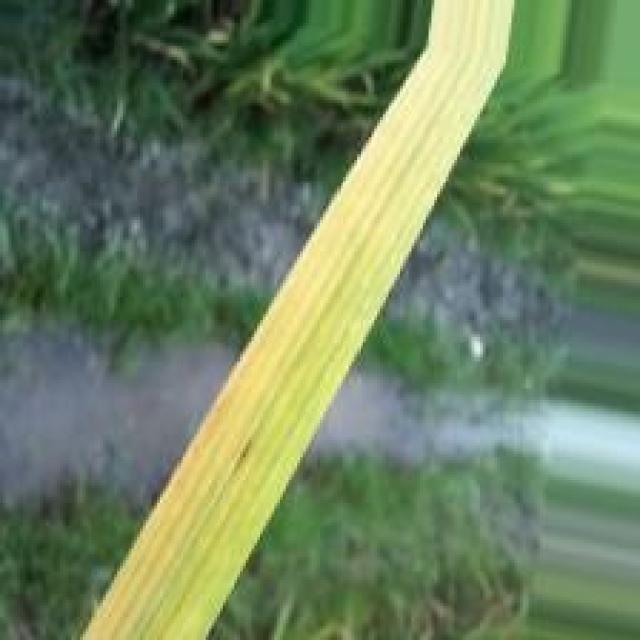Brown_Spot: (231, 433, 257, 474)
